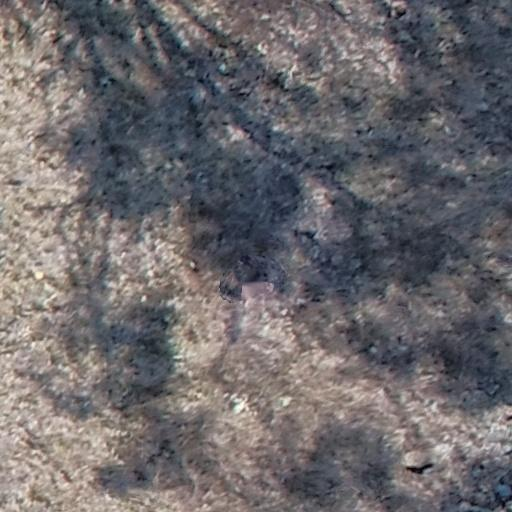stone: (396, 450, 428, 474), (276, 66, 300, 92), (292, 222, 324, 240), (488, 482, 510, 502), (385, 0, 407, 17), (228, 397, 249, 413), (310, 189, 328, 207), (38, 294, 58, 310), (329, 1, 352, 14), (56, 32, 73, 49), (272, 306, 292, 320), (291, 296, 312, 309), (32, 64, 52, 76), (386, 56, 396, 80), (112, 251, 132, 263), (428, 402, 442, 416), (467, 463, 483, 475), (280, 392, 290, 410), (479, 102, 490, 117), (32, 268, 44, 281), (254, 41, 268, 52), (262, 12, 273, 26), (215, 65, 230, 74), (186, 260, 198, 270), (140, 292, 148, 306), (213, 81, 220, 89)
